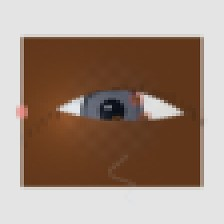foreign_body_visible: (127, 92, 146, 107)
